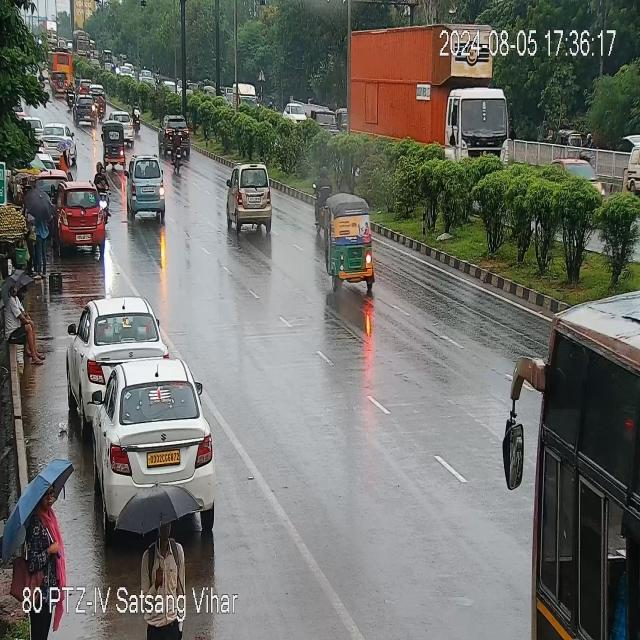2-wheelers: (97, 157, 112, 224), (316, 166, 329, 232), (169, 132, 188, 172), (133, 98, 141, 134), (66, 81, 75, 109), (98, 92, 104, 120)
auto: (324, 187, 379, 290), (103, 123, 126, 163), (556, 126, 582, 152), (336, 104, 348, 136)
bus: (496, 272, 638, 640), (48, 48, 72, 70)
car: (89, 362, 215, 528), (70, 296, 160, 404), (228, 165, 276, 237), (54, 182, 103, 251), (128, 157, 169, 220), (157, 113, 190, 151), (72, 96, 96, 126), (121, 108, 135, 144), (284, 102, 309, 120), (52, 72, 68, 98), (79, 78, 96, 94)
pedestrian: (142, 489, 193, 602), (20, 174, 54, 279), (4, 282, 42, 359), (34, 487, 66, 572)
truck: (344, 23, 515, 168), (233, 80, 256, 110)
